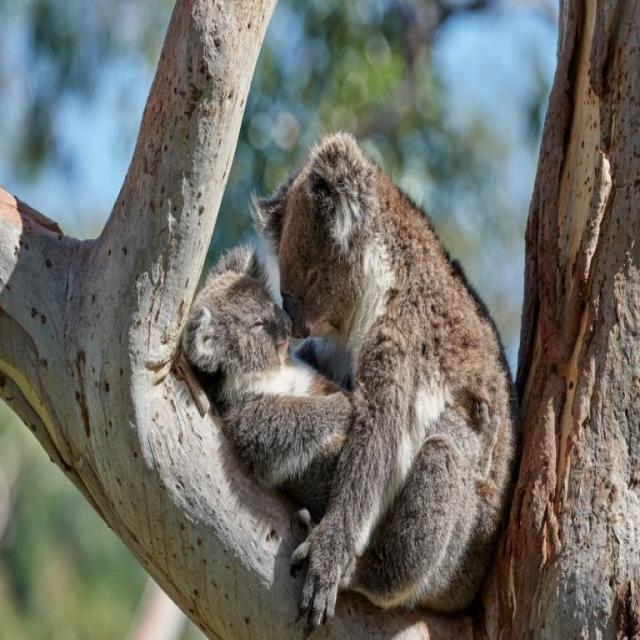Koala: (276, 124, 526, 636), (174, 247, 500, 608)
